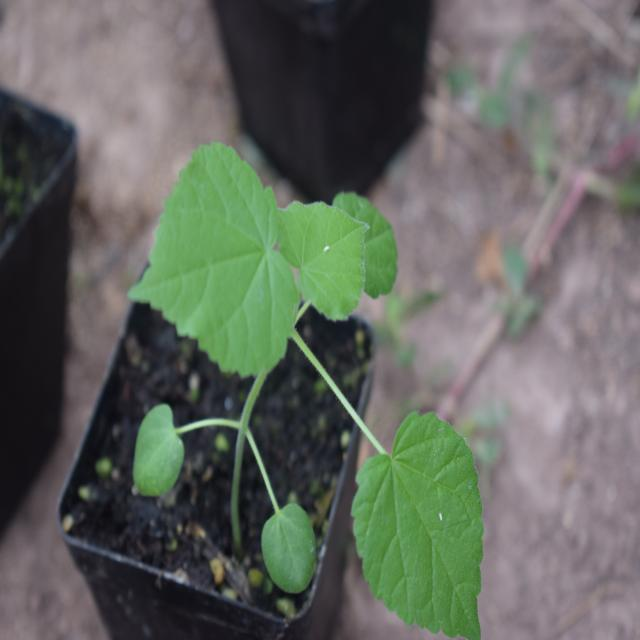abutilon theophrasti: (136, 155, 496, 606)
